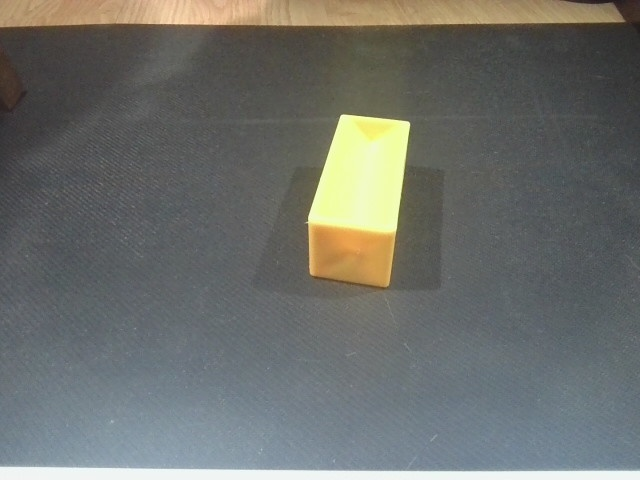YellowSample: (303, 110, 413, 291)
